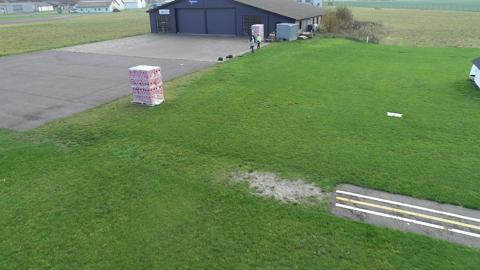RockwoolPallet: (251, 23, 265, 43)
